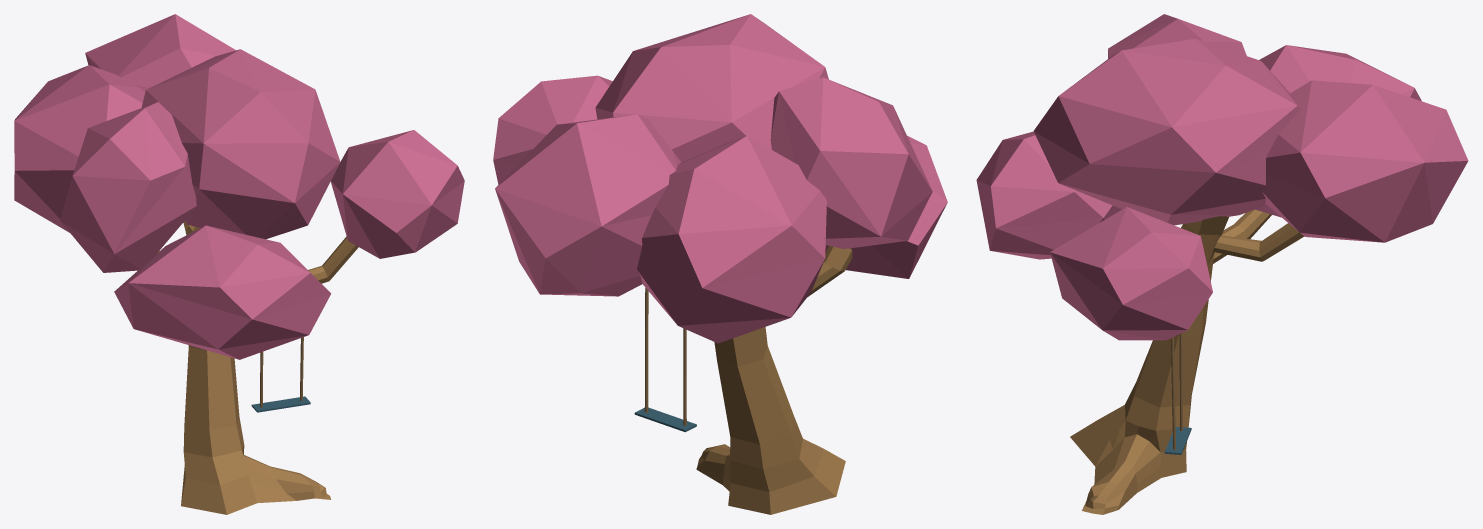
File: Tree(sakura)_4.fbx
3 renders of one model, left to right at view 1: azimuth 30°, elevation 25°; view 2: azimuth 150°, elevation 25°; view 3: azimuth 270°, elevation 25°, orthographic. The views are drawn at different scales.
Parts seen in each view (by area): view 1: Tree(sakura)_4; view 2: Tree(sakura)_4; view 3: Tree(sakura)_4.
Part boxes in pixels (x1=…): Tree(sakura)_4: x1=14, y1=14, x2=464, y2=514; Tree(sakura)_4: x1=493, y1=14, x2=947, y2=514; Tree(sakura)_4: x1=976, y1=14, x2=1468, y2=514.
Bounding box in the file's own units: 314 × 337 × 342.
